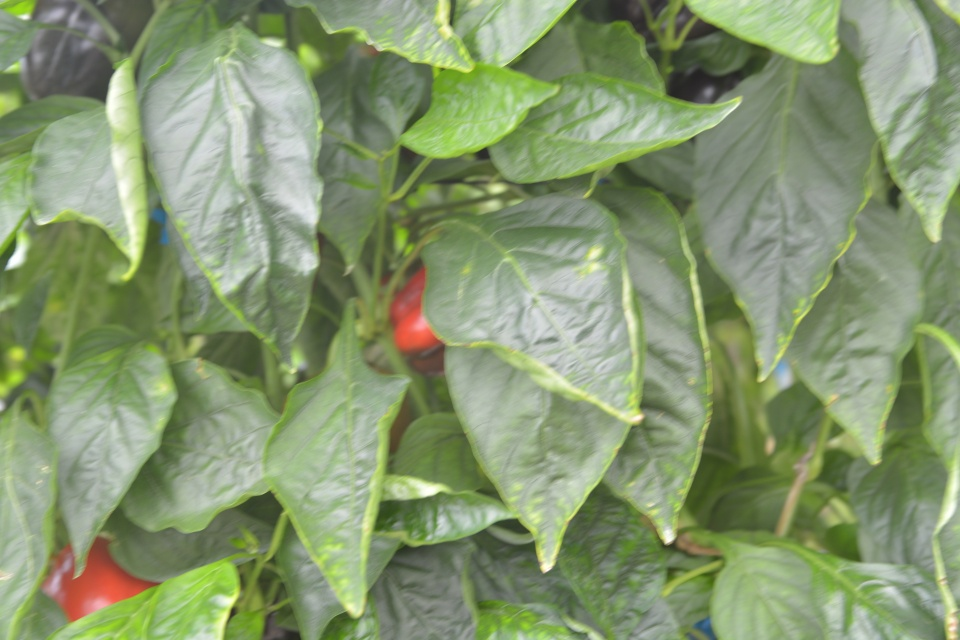fruit: (40, 535, 160, 621), (23, 0, 114, 104), (388, 266, 446, 373)
